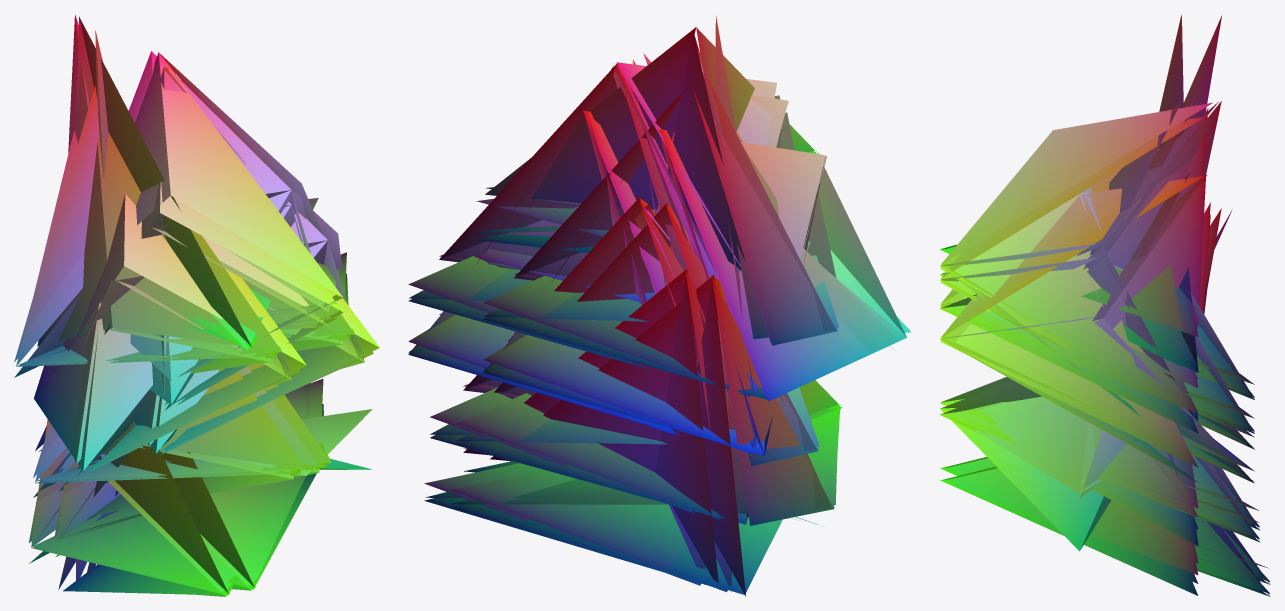
The model's file is npc_guide_base.glb.
3 views of the same model, side by side, from view 1: azimuth 30°, elevation 25°; view 2: azimuth 150°, elevation 25°; view 3: azimuth 270°, elevation 25° (orthographic). The views are drawn at different scales.
Parts seen in each view (by area): view 1: upper_arm_l, head, lower_arm_l, lower_leg_r, lower_leg_l, upper_leg_l, hair, lower_arm_r, neck, torso, upper_leg_r, upper_arm_r; view 2: lower_leg_l, lower_arm_l, upper_arm_l, hair, upper_leg_l, lower_leg_r, upper_arm_r, lower_arm_r, upper_leg_r, head, neck; view 3: head, lower_arm_r, torso, lower_leg_r, upper_leg_r, upper_arm_r, neck, hair, upper_leg_l, upper_arm_l, lower_leg_l, lower_arm_l.
Part boxes in pixels (x1=…): upper_arm_l: x1=14, y1=85, x2=281, y2=377; head: x1=128, y1=51, x2=343, y2=404; lower_arm_l: x1=34, y1=194, x2=306, y2=475; lower_leg_r: x1=54, y1=452, x2=316, y2=590; lower_leg_l: x1=29, y1=419, x2=235, y2=596; upper_leg_l: x1=33, y1=368, x2=305, y2=515; hair: x1=68, y1=14, x2=318, y2=350; lower_arm_r: x1=133, y1=210, x2=379, y2=457; neck: x1=141, y1=176, x2=343, y2=410; torso: x1=100, y1=366, x2=372, y2=483; upper_leg_r: x1=59, y1=363, x2=331, y2=496; upper_arm_r: x1=165, y1=59, x2=354, y2=353; lower_leg_l: x1=451, y1=274, x2=841, y2=596; lower_arm_l: x1=483, y1=129, x2=911, y2=455; upper_arm_l: x1=483, y1=78, x2=839, y2=399; hair: x1=476, y1=16, x2=819, y2=270; upper_leg_l: x1=456, y1=203, x2=819, y2=524; lower_leg_r: x1=424, y1=269, x2=812, y2=589; upper_arm_r: x1=408, y1=59, x2=686, y2=369; lower_arm_r: x1=408, y1=110, x2=677, y2=435; upper_leg_r: x1=430, y1=196, x2=698, y2=513; head: x1=477, y1=53, x2=786, y2=302; neck: x1=502, y1=74, x2=793, y2=316; head: x1=940, y1=98, x2=1221, y2=421; lower_arm_r: x1=940, y1=172, x2=1254, y2=483; torso: x1=940, y1=208, x2=1231, y2=551; lower_leg_r: x1=940, y1=275, x2=1270, y2=596; upper_leg_r: x1=940, y1=214, x2=1260, y2=542; upper_arm_r: x1=940, y1=108, x2=1254, y2=433; neck: x1=940, y1=117, x2=1204, y2=421; hair: x1=940, y1=14, x2=1221, y2=372; upper_leg_l: x1=940, y1=202, x2=1260, y2=530; upper_arm_l: x1=940, y1=97, x2=1254, y2=399; lower_leg_l: x1=940, y1=457, x2=1270, y2=584; lower_arm_l: x1=940, y1=149, x2=1254, y2=449.
Bounding box in the file's own units: 1.53 × 2.26 × 1.28.
